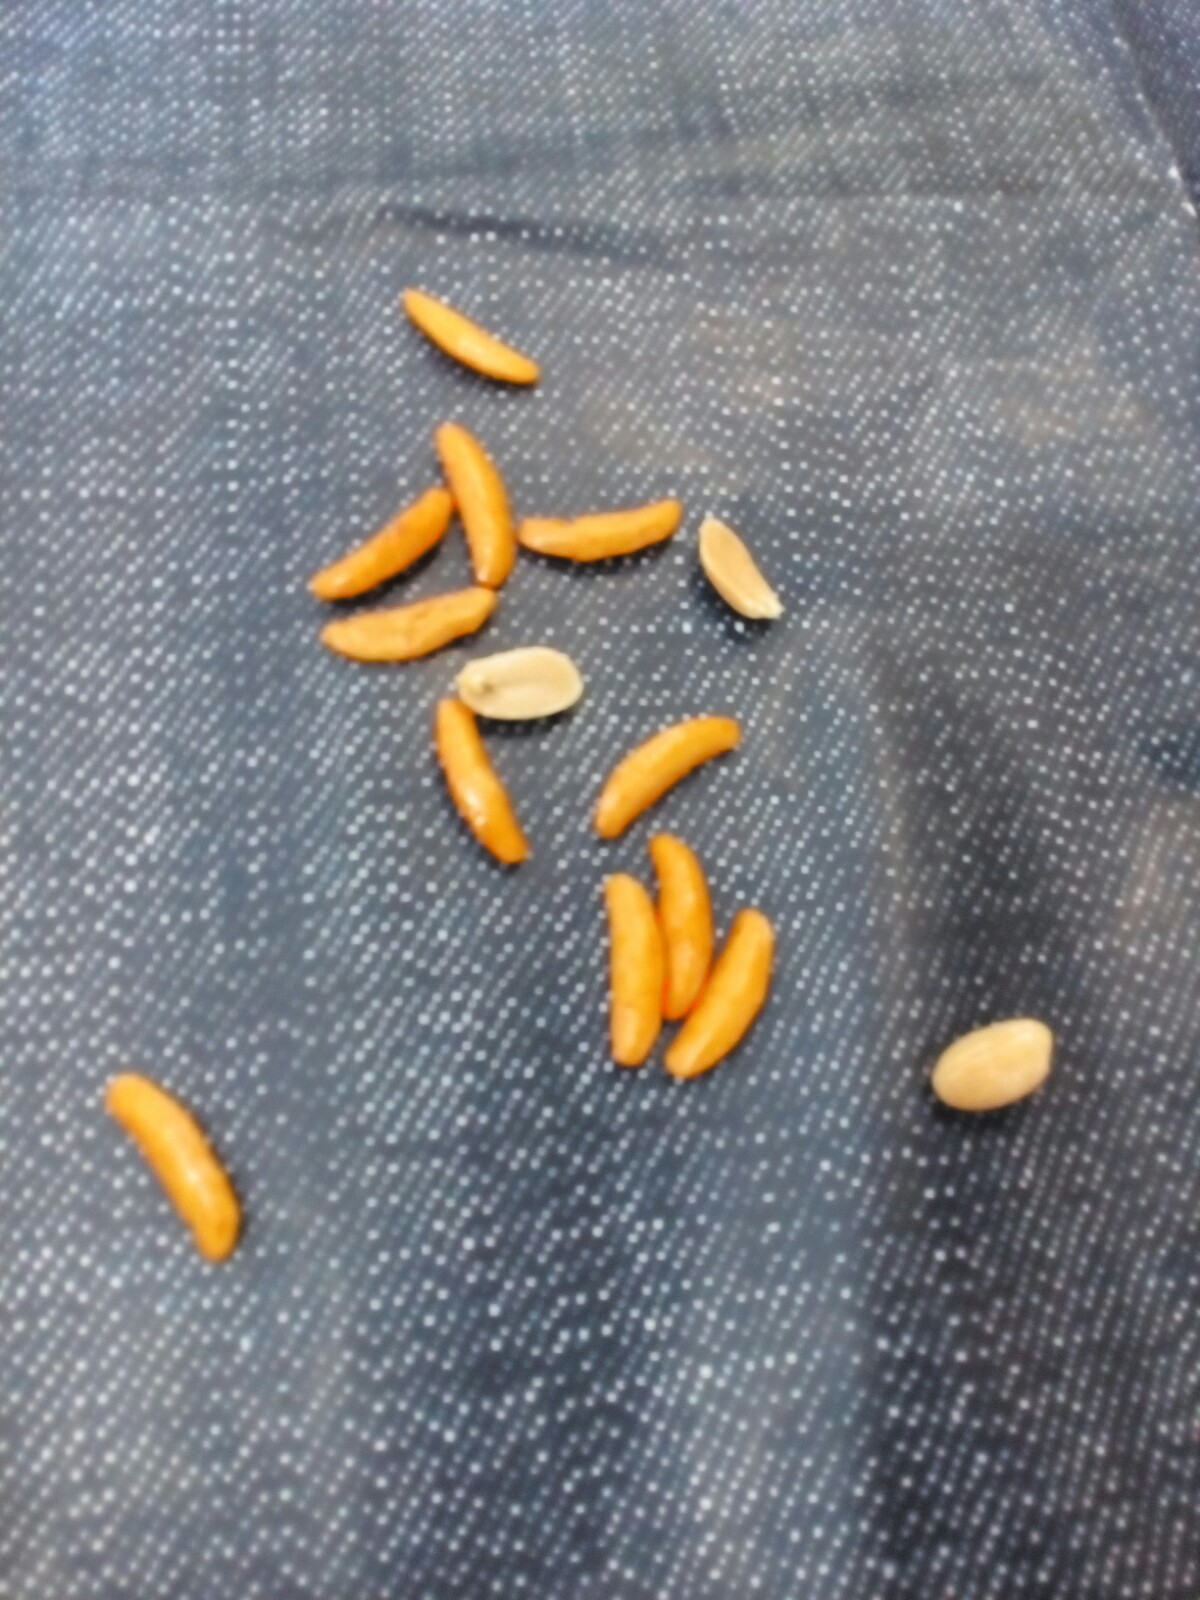peanut: (928, 1002, 1060, 1123), (688, 506, 792, 643), (447, 636, 594, 724)
